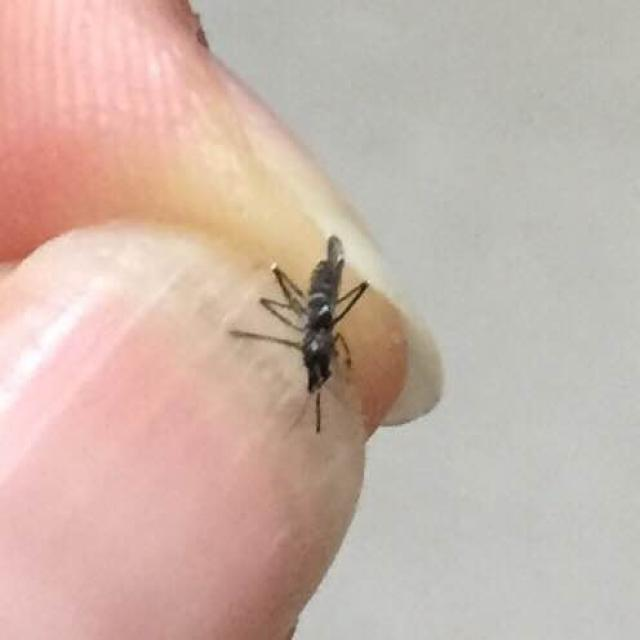albopictus: (223, 223, 379, 446)
